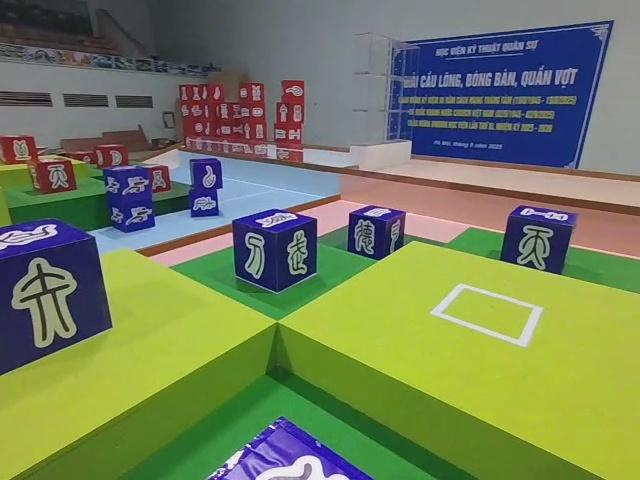R2 Fake Blue: (2, 216, 114, 377), (232, 211, 319, 296), (502, 205, 581, 276), (346, 204, 406, 260)
